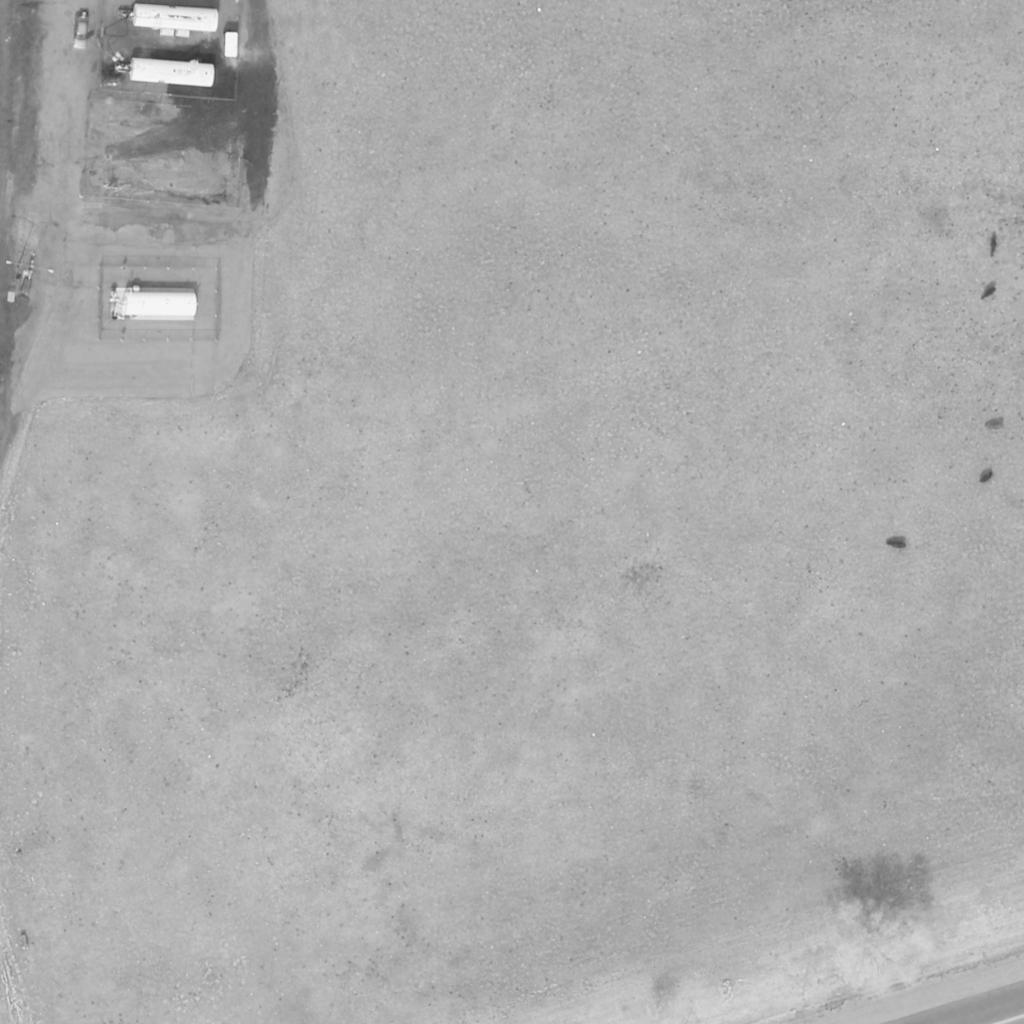vehicle: (73, 10, 91, 50)
